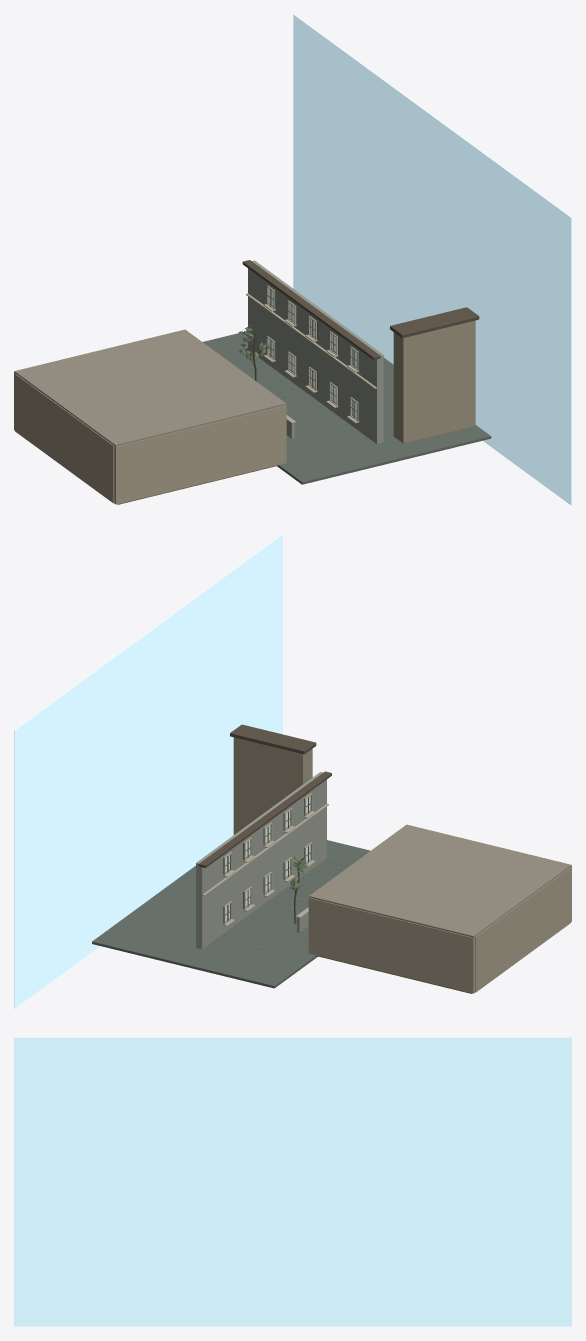
File: kahvehane_courtyard.glb
The picture shows the model from 3 angles, top to bottom: view 1: azimuth 30°, elevation 25°; view 2: azimuth 150°, elevation 25°; view 3: azimuth 270°, elevation 25°; orthographic projection. The views are drawn at different scales.
Visible parts, largest first — view 1: Courtyard distant sky, Quiet ceiling.008, Courtyard paving, Entry lime wall.008, Opposite courtyard facade, Distant courtyard wing, Left lime wall.008, Opposite roof fascia, Distant courtyard roof; view 2: Courtyard distant sky, Quiet ceiling.008, Courtyard paving, Back lime wall.008, Opposite courtyard facade, Left lime wall.008, Distant courtyard wing, Opposite roof fascia, Distant courtyard roof; view 3: Courtyard distant sky.
Boxes of the visible parts, x1,y1,x2,y2 form: Courtyard distant sky: (293,14,571,505); Quiet ceiling.008: (14,329,286,446); Courtyard paving: (203,331,491,484); Entry lime wall.008: (114,405,286,504); Opposite courtyard facade: (248,260,383,444); Distant courtyard wing: (393,320,475,443); Left lime wall.008: (15,374,114,503); Opposite roof fascia: (242,260,380,359); Distant courtyard roof: (390,307,479,338); Courtyard distant sky: (14,534,282,1008); Quiet ceiling.008: (309,824,571,937); Courtyard paving: (92,840,370,988); Back lime wall.008: (308,897,475,993); Opposite courtyard facade: (196,772,326,949); Left lime wall.008: (475,867,570,992); Distant courtyard wing: (233,737,312,834); Opposite roof fascia: (198,771,331,867); Distant courtyard roof: (230,724,316,754); Courtyard distant sky: (14,1037,571,1326).
Size of the model in its own units: 22.03 by 16 by 28.
